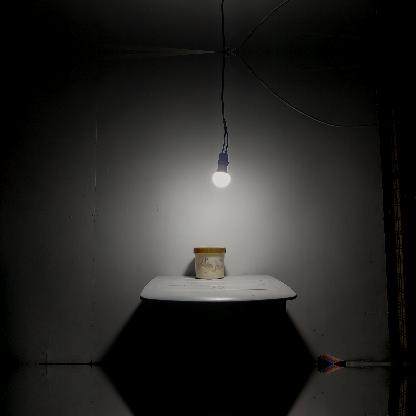Lady-s-Choice: (193, 245, 225, 278)
